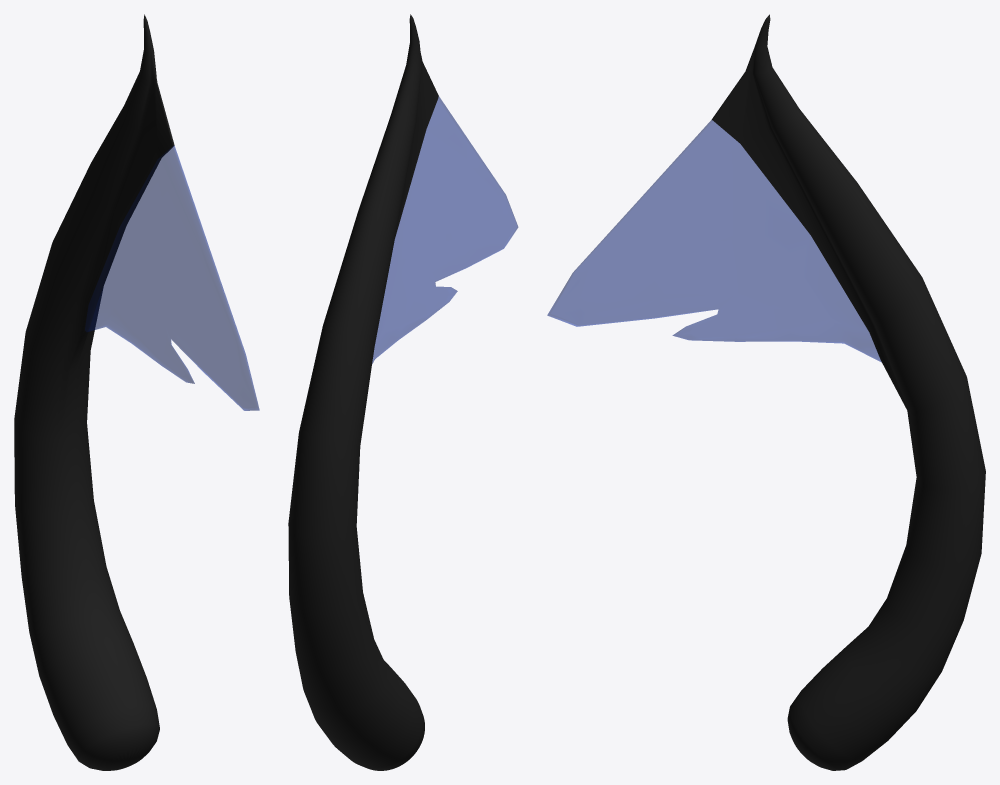
The model's file is punkac_rameno.fbx.
3 views of the same model, side by side, from view 1: azimuth 30°, elevation 25°; view 2: azimuth 150°, elevation 25°; view 3: azimuth 270°, elevation 25° (orthographic). The views are drawn at different scales.
Visible parts, largest first — view 1: Cylinder.002; view 2: Cylinder.002; view 3: Cylinder.002.
Boxes of the visible parts, <box> form: Cylinder.002: <box>14,14,259,770</box>; Cylinder.002: <box>288,14,518,770</box>; Cylinder.002: <box>547,14,985,770</box>.
Bounding box in the file's own units: 0.0477 × 0.4061 × 0.2147.
